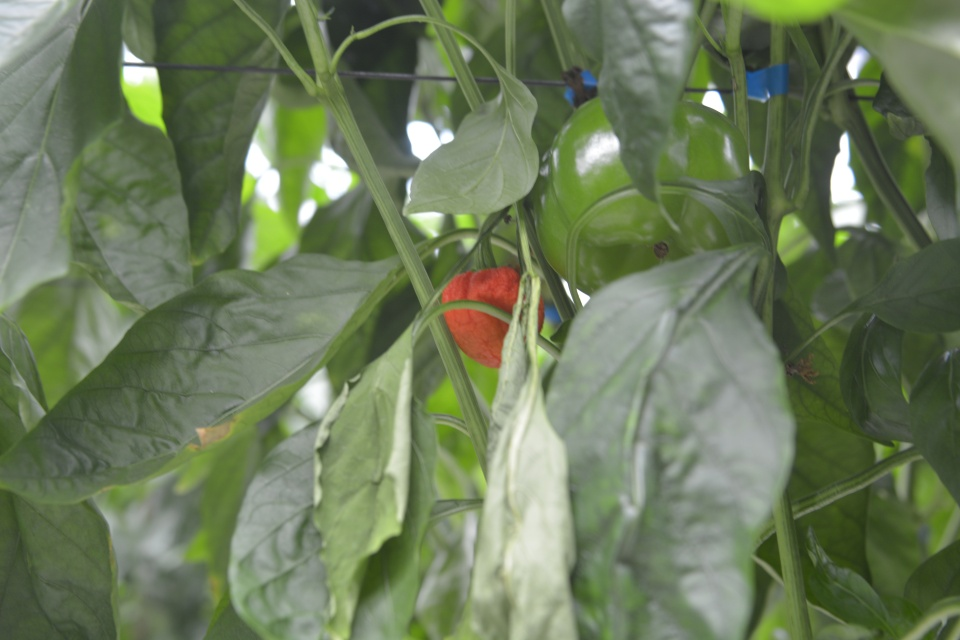fruit: (531, 96, 751, 299), (440, 263, 546, 369)
